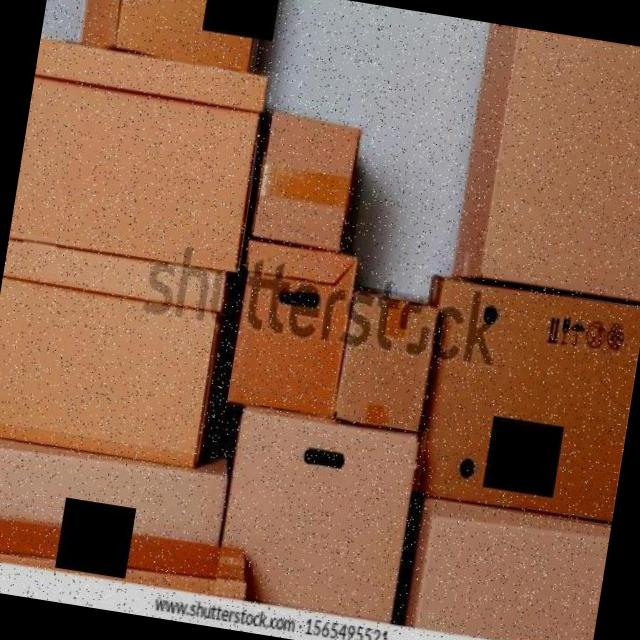box: (8, 36, 278, 280), (397, 275, 640, 530), (0, 231, 241, 484), (451, 25, 640, 306), (213, 402, 428, 624), (0, 420, 233, 552), (402, 498, 610, 640), (219, 235, 356, 430), (244, 108, 373, 257), (334, 286, 444, 436), (75, 0, 266, 77)
